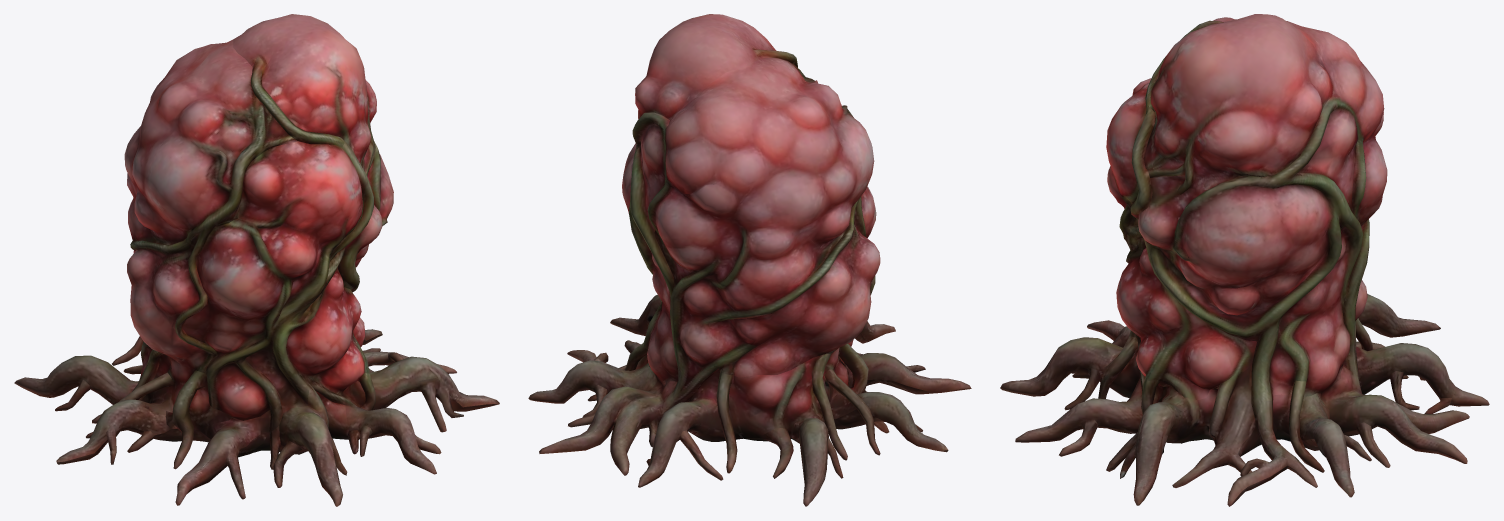
File: living-flesh-blob---free-organic-horror-6357bb.glb
3 views of the same model, side by side, from view 1: azimuth 30°, elevation 25°; view 2: azimuth 150°, elevation 25°; view 3: azimuth 270°, elevation 25° (orthographic). The views are drawn at different scales.
Parts seen in each view (by area): view 1: PropMesh; view 2: PropMesh; view 3: PropMesh.
Part boxes in pixels (box(x1,y1,x2,y2)): PropMesh: box(14, 14, 499, 506); PropMesh: box(528, 14, 971, 506); PropMesh: box(1000, 14, 1489, 506).
Bounding box in the file's own units: 0.8473 × 0.7857 × 0.8565.
Materials: 1 (1 with a texture image).
